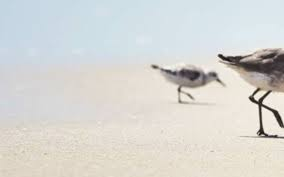Walking: (143, 41, 284, 150)
